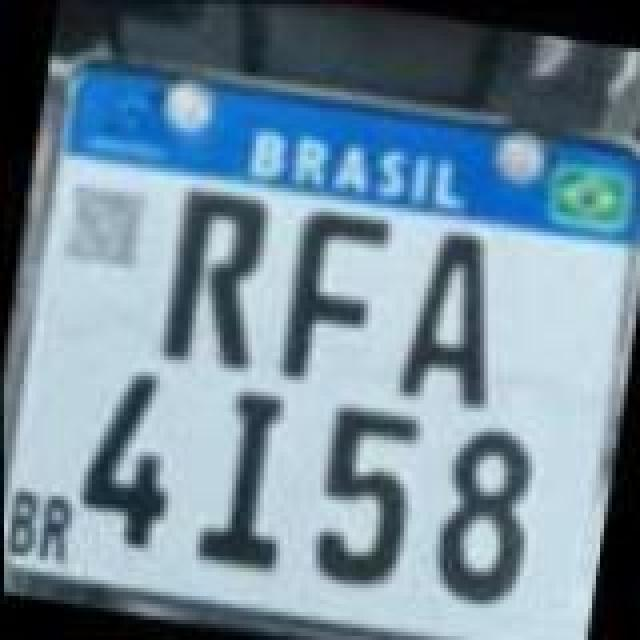4: (66, 356, 190, 556)
5: (302, 400, 430, 596)
8: (424, 420, 548, 612)
A: (396, 220, 520, 412)
F: (278, 200, 398, 396)
I: (188, 382, 308, 578)
R: (148, 180, 280, 380)
